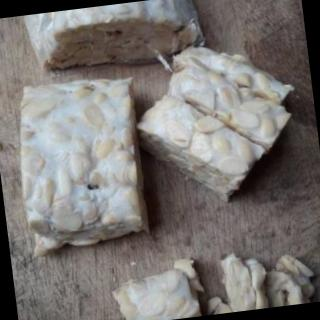Tempe: (8, 71, 156, 257)
